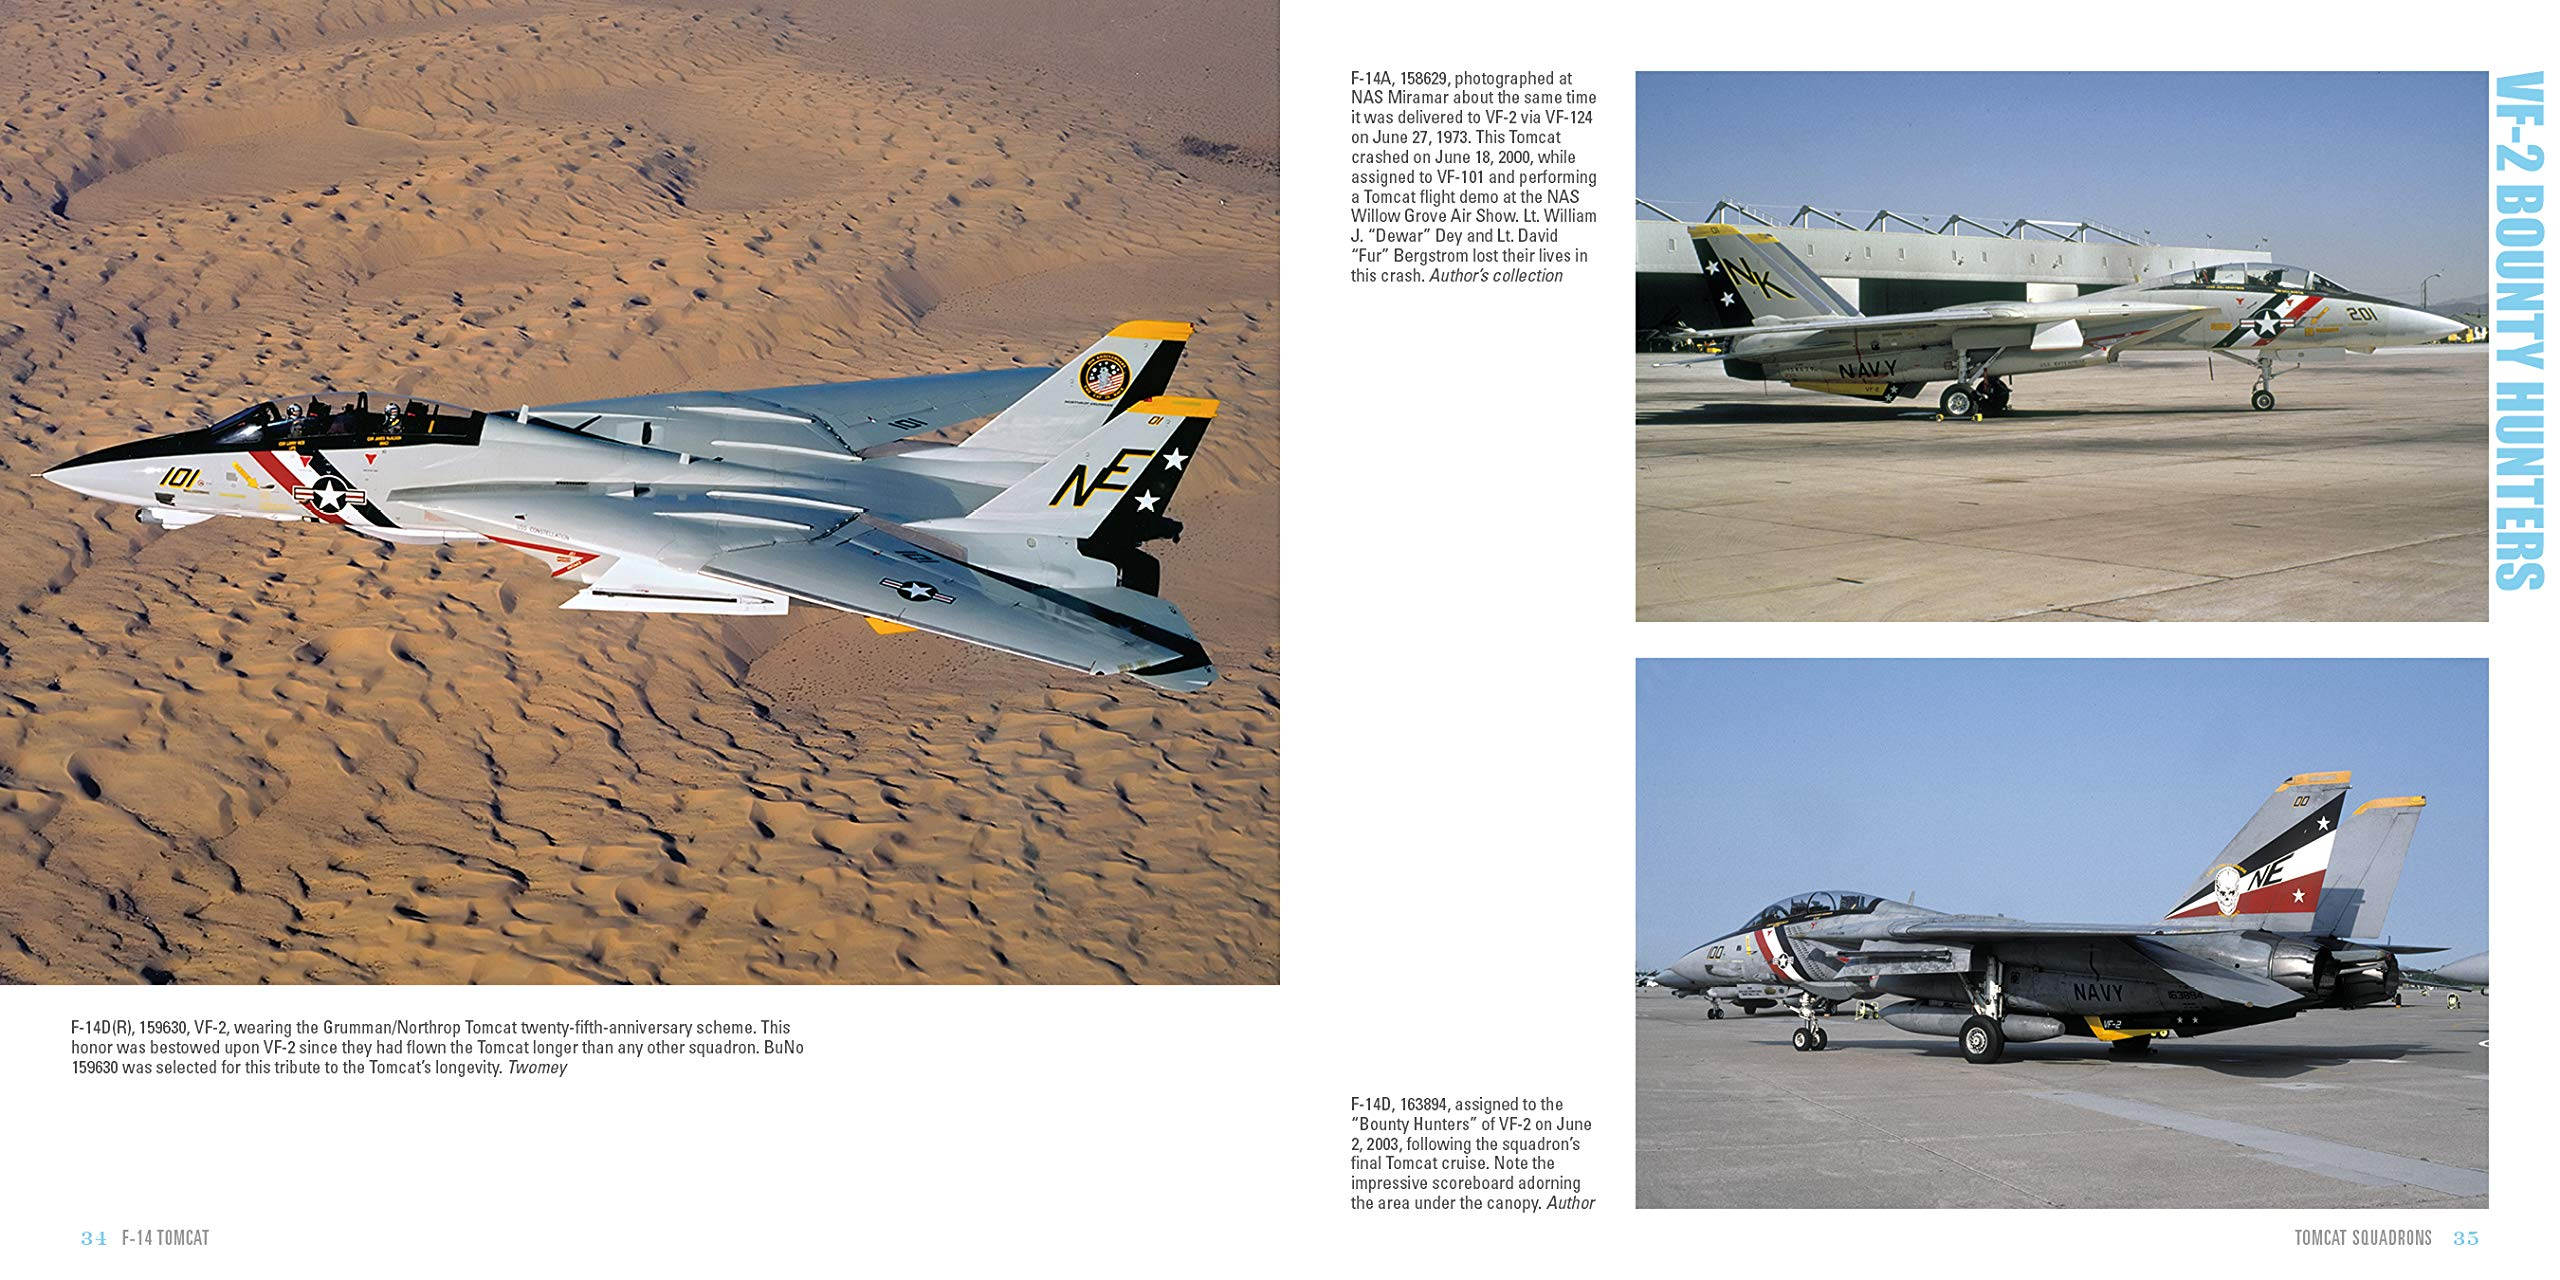F14: (29, 318, 1220, 692), (1660, 771, 2473, 1063), (1651, 224, 2469, 420)
